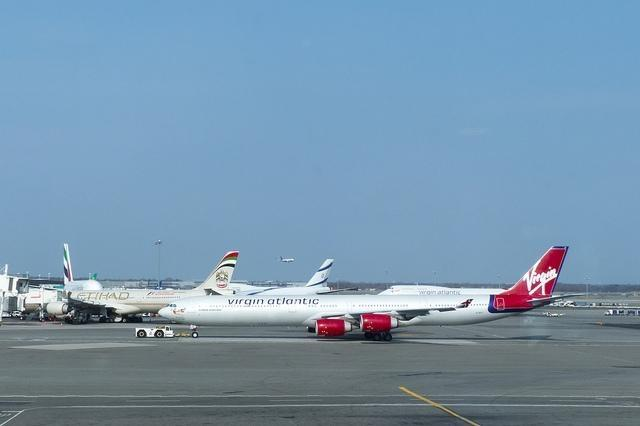truck: (136, 326, 174, 338)
